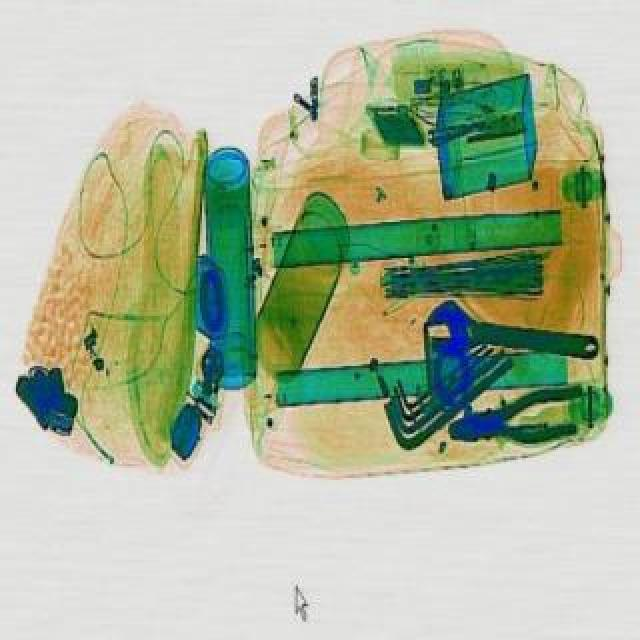scissors: (418, 292, 604, 372)
wrench: (444, 382, 588, 450)
